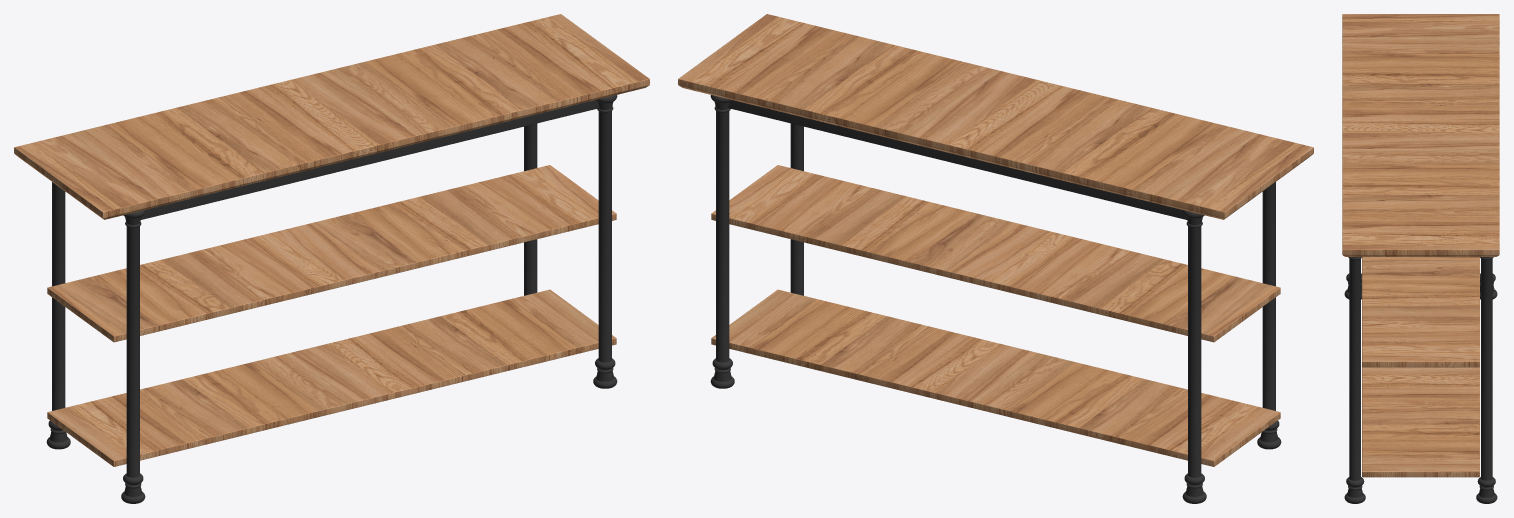
Rendered from estanteria.glb.
3 views of the same model, side by side, from view 1: azimuth 30°, elevation 25°; view 2: azimuth 150°, elevation 25°; view 3: azimuth 270°, elevation 25° (orthographic). The views are drawn at different scales.
Visible parts, largest first — view 1: Wood_Material #42_0, Metal_Material #26_0; view 2: Wood_Material #42_0, Metal_Material #26_0; view 3: Wood_Material #42_0, Metal_Material #26_0.
Boxes of the visible parts, x1,y1,x2,y2 form: Wood_Material #42_0: (14,14,649,466); Metal_Material #26_0: (46,95,617,503); Wood_Material #42_0: (678,14,1313,466); Metal_Material #26_0: (710,95,1281,503); Wood_Material #42_0: (1342,14,1499,477); Metal_Material #26_0: (1344,257,1497,503).
Bounding box in the file's own units: 1.5 × 0.7922 × 0.4225.
2 materials, 1 textured.
